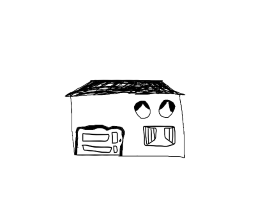door: (71, 116, 129, 161)
open_window: (139, 123, 179, 151), (131, 99, 154, 121), (157, 99, 177, 121)
shaded_roof: (58, 75, 190, 98)
small_house: (0, 1, 260, 221)
wall: (65, 91, 188, 160)
